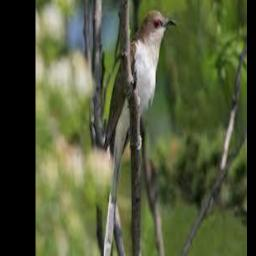Cuckoo: (102, 9, 177, 256)
